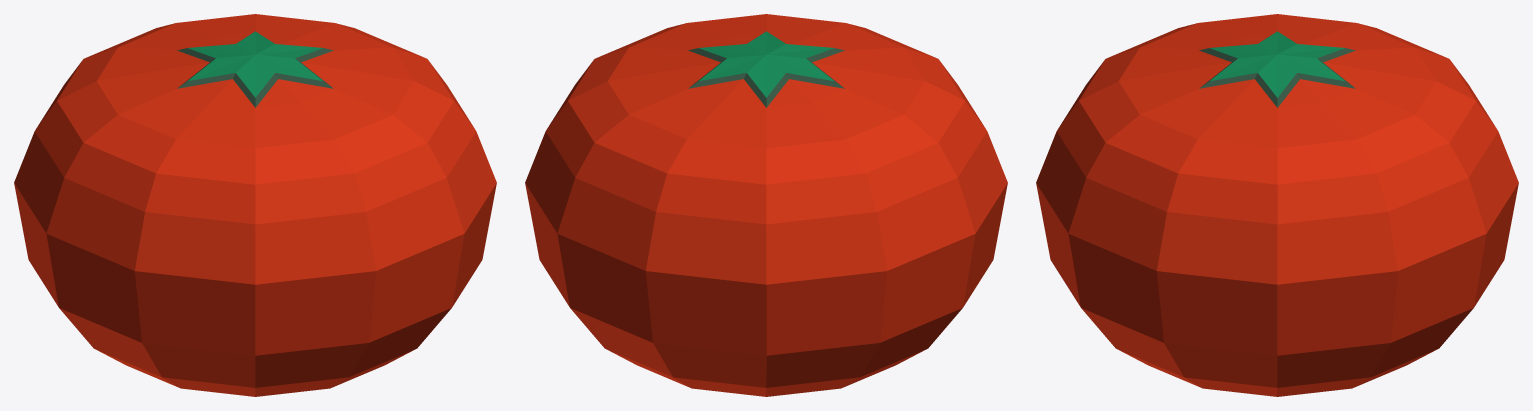
Rendered from tomatoe.glb.
3 renders of one model, left to right at view 1: azimuth 30°, elevation 25°; view 2: azimuth 150°, elevation 25°; view 3: azimuth 270°, elevation 25°, orthographic.
Parts seen in each view (by area): view 1: tomatoe; view 2: tomatoe; view 3: tomatoe.
Boxes of the visible parts, x1=… form: tomatoe: x1=14, y1=14, x2=496, y2=396; tomatoe: x1=525, y1=14, x2=1007, y2=396; tomatoe: x1=1036, y1=14, x2=1518, y2=396.
Size of the model in its own units: 1.11 by 0.779 by 1.11.
1 material, 1 textured.
